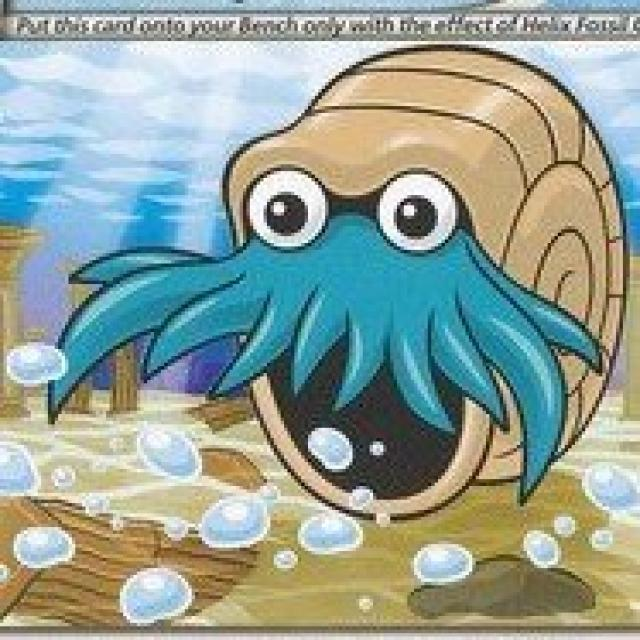Omanyte: (200, 38, 634, 488)
